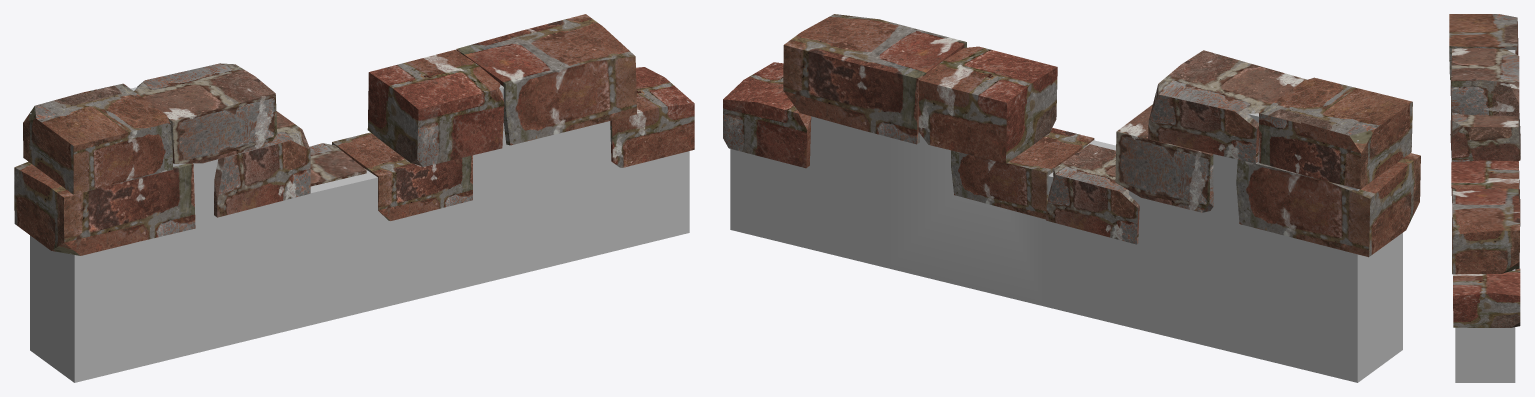
File: SM_Wall_Ruined_01.fbx
3 renders of one model, left to right at view 1: azimuth 30°, elevation 25°; view 2: azimuth 150°, elevation 25°; view 3: azimuth 270°, elevation 25°, orthographic. The views are drawn at different scales.
Visible parts, largest first — view 1: SM_Wall_Ruined_01_LOD0; view 2: SM_Wall_Ruined_01_LOD0; view 3: SM_Wall_Ruined_01_LOD0.
Part boxes in pixels (x1,y1,x2,y2): SM_Wall_Ruined_01_LOD0: (14, 14, 694, 382); SM_Wall_Ruined_01_LOD0: (723, 14, 1420, 382); SM_Wall_Ruined_01_LOD0: (1449, 14, 1520, 382).
Size of what is drawn, in the model's own units: 412 by 152 by 59.31.
